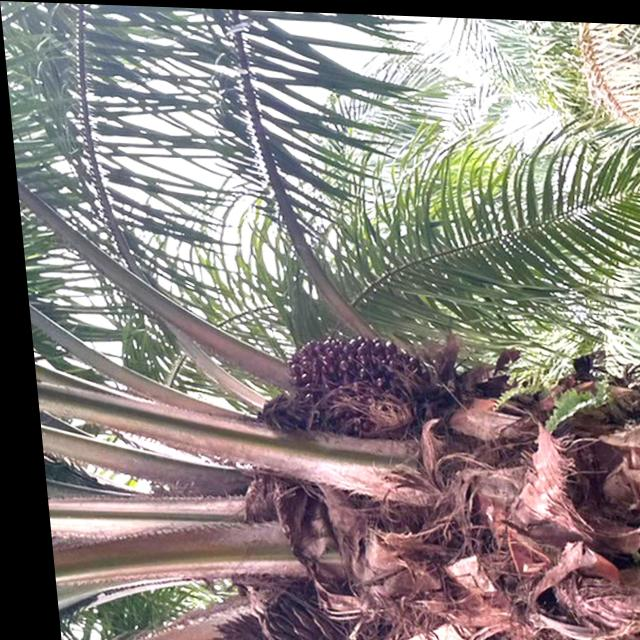ripe: (263, 313, 428, 436)
